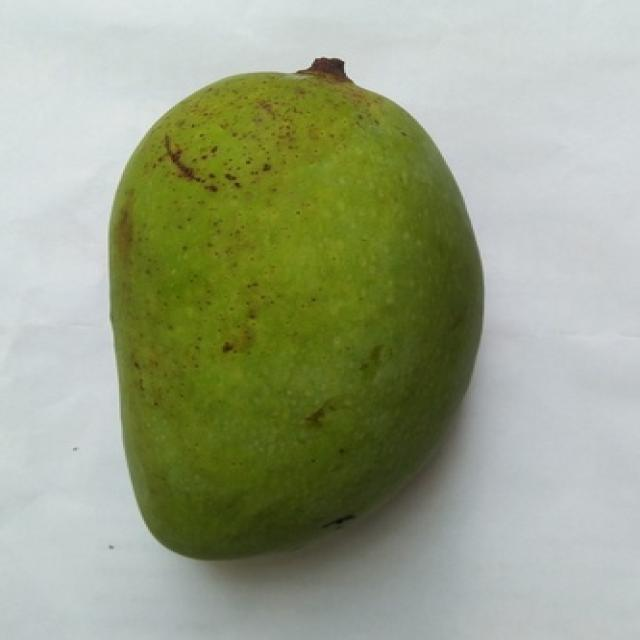Mango: (111, 73, 482, 558)
